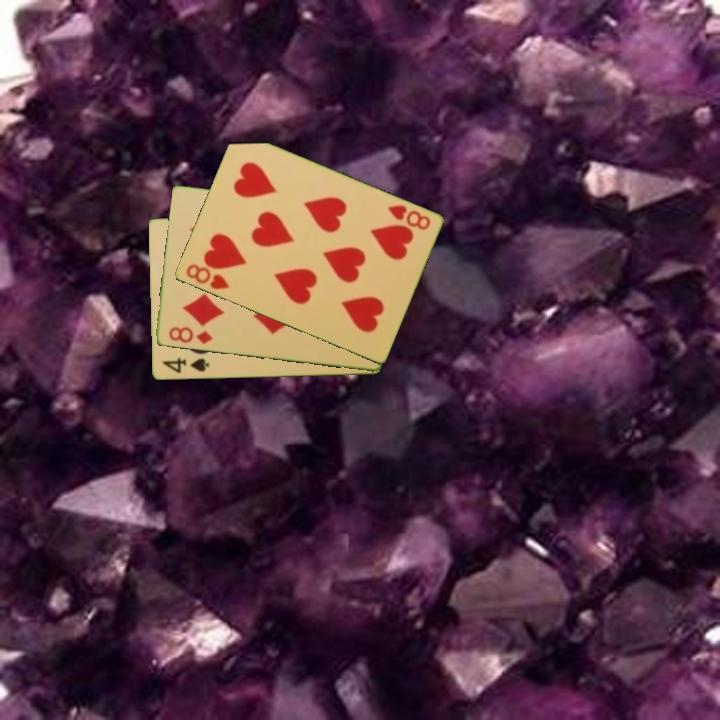4s: (158, 354, 212, 376)
8d: (165, 323, 215, 347)
8h: (182, 261, 232, 293), (384, 201, 433, 233)
